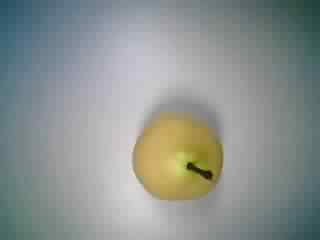pear: (127, 104, 226, 207)
